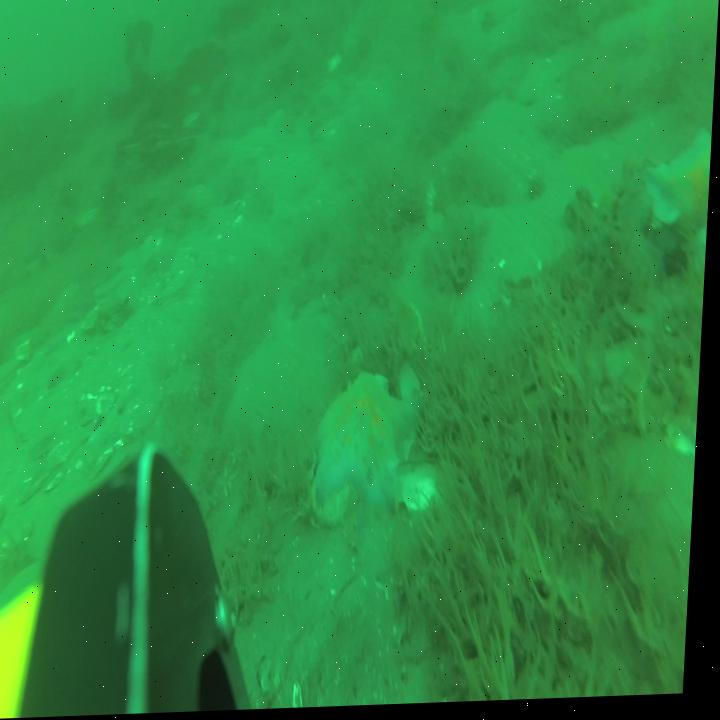scallop: (24, 467, 53, 504), (0, 357, 21, 397), (0, 499, 13, 545)
starfish: (319, 376, 429, 519), (648, 133, 713, 245)
